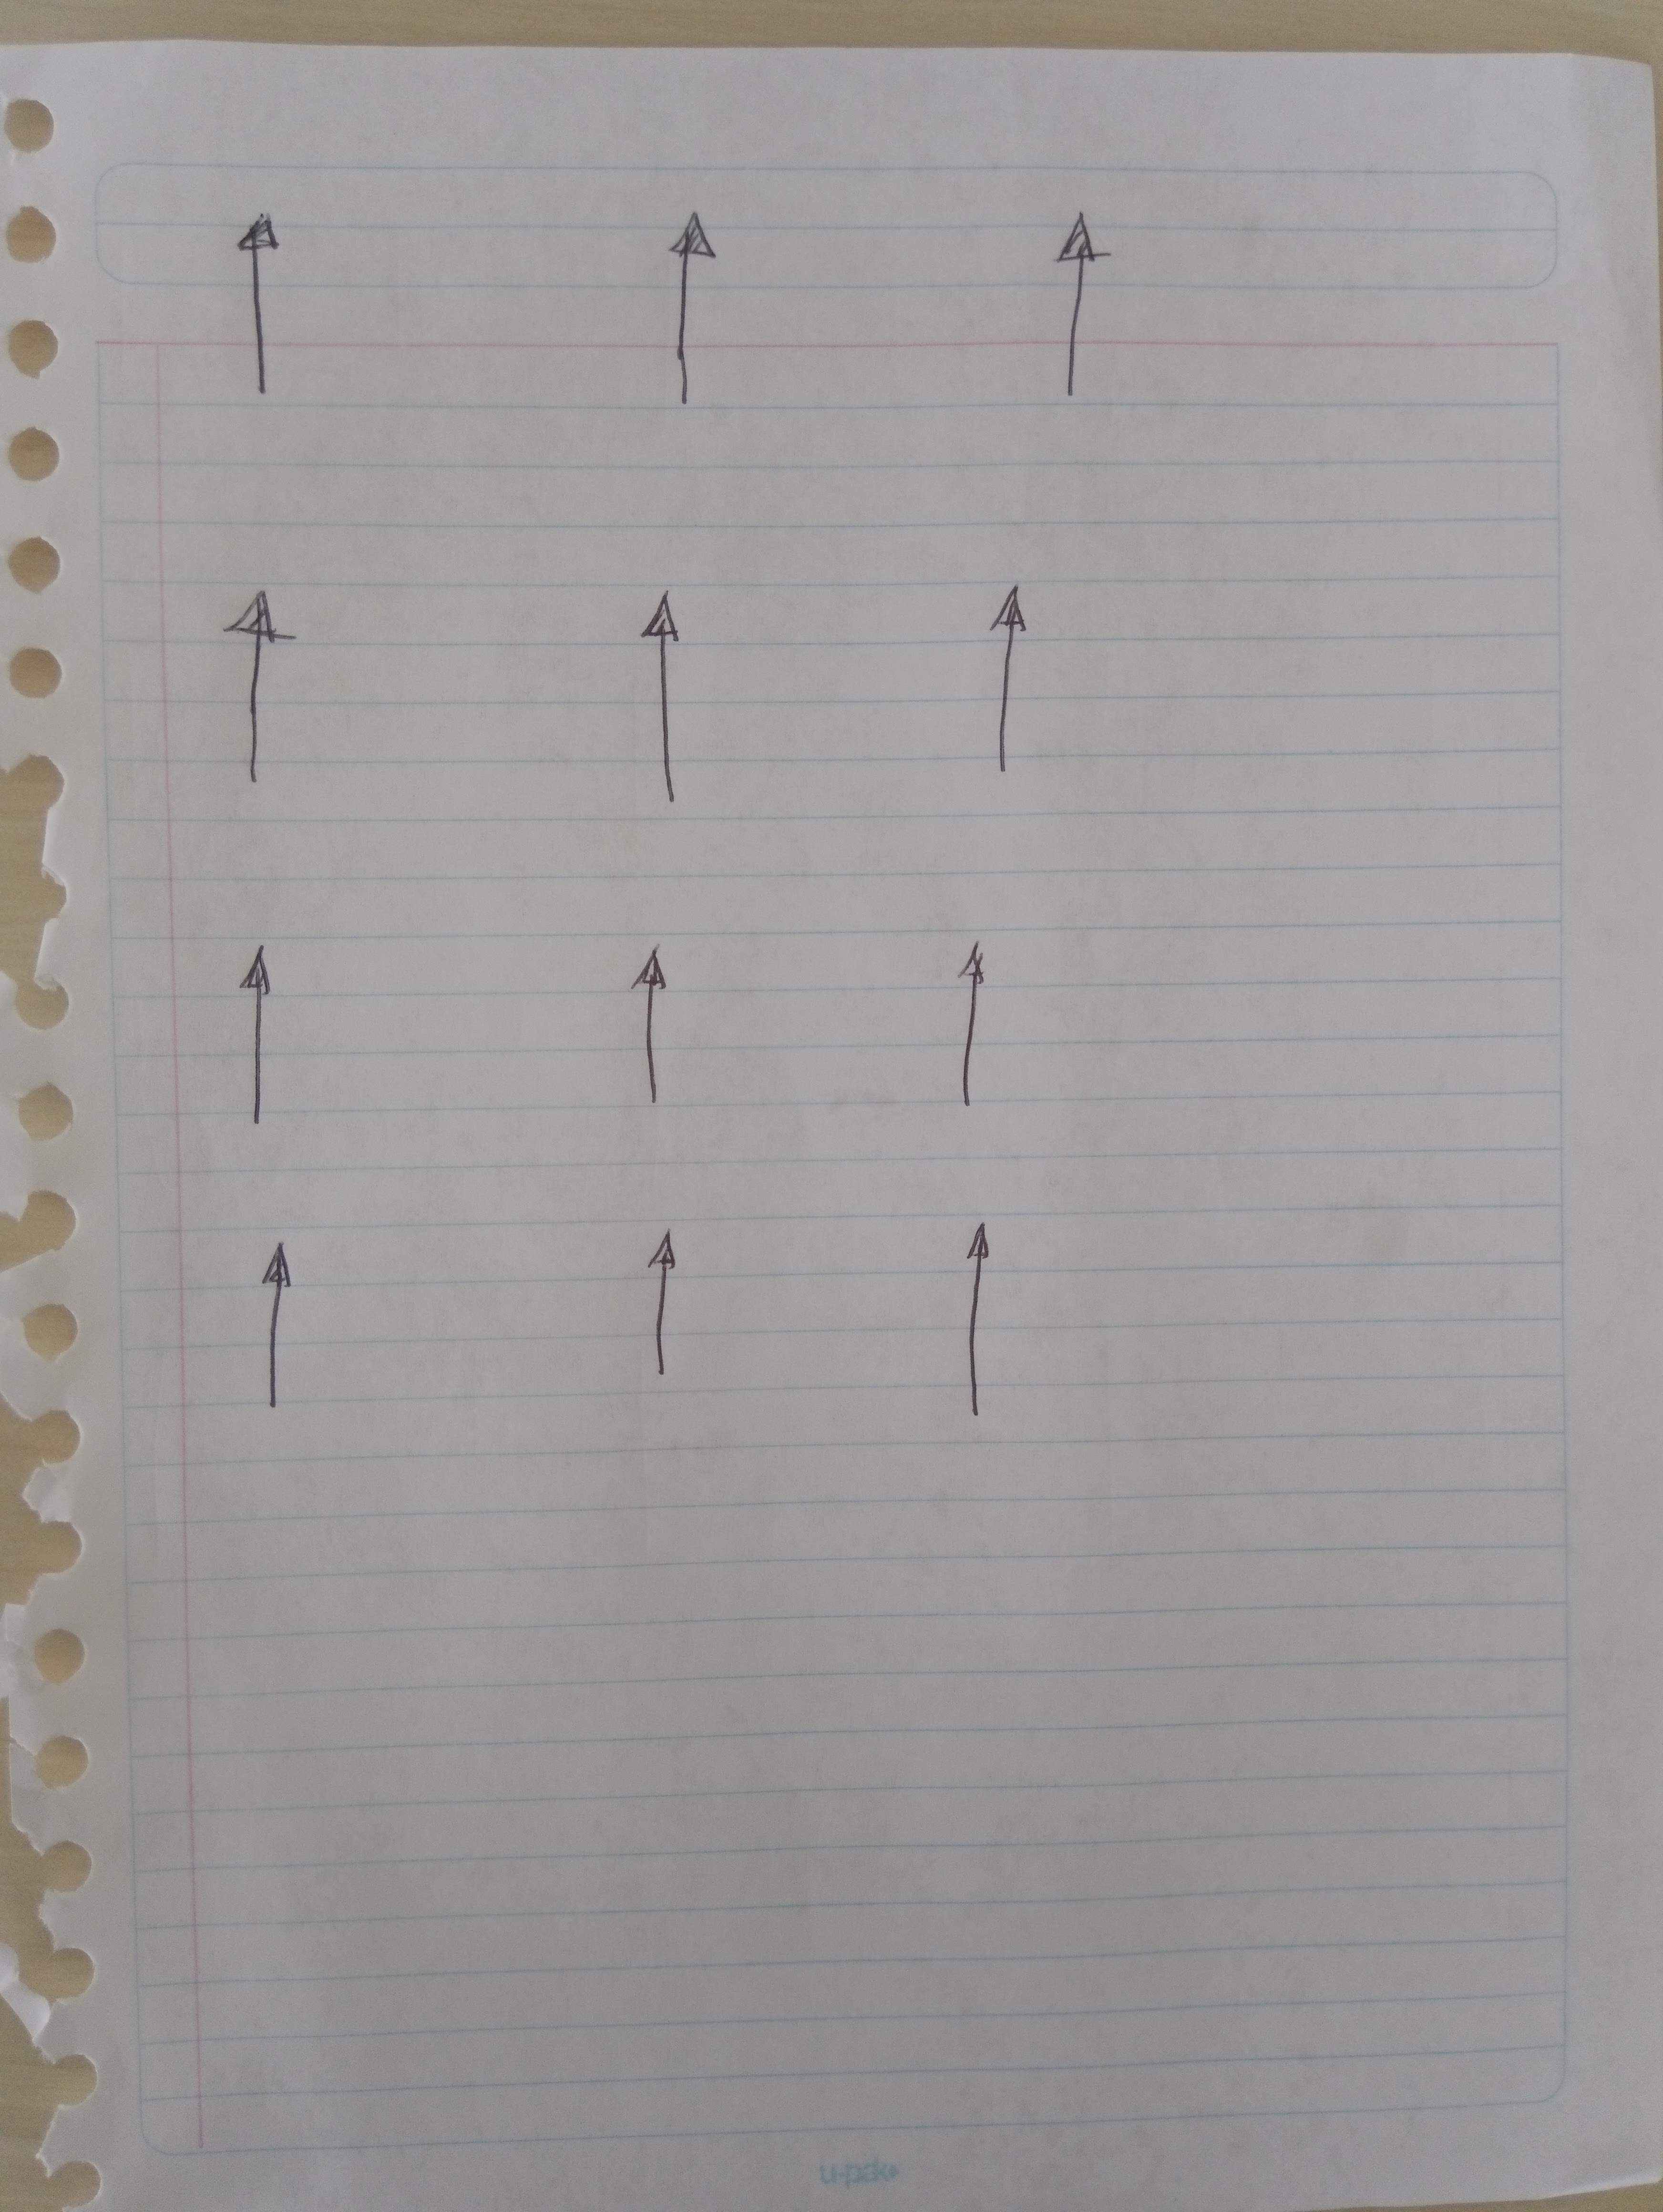arrow_line_up: (587, 569, 751, 848), (208, 178, 327, 416), (1034, 203, 1139, 449), (599, 931, 707, 1147), (641, 175, 714, 449), (227, 546, 304, 807), (929, 1208, 1015, 1426), (224, 1224, 320, 1418), (971, 566, 1034, 810), (933, 925, 1015, 1109), (224, 934, 290, 1144), (634, 1224, 699, 1398)
